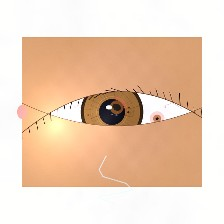foreign_body_visible: (149, 112, 165, 125)
